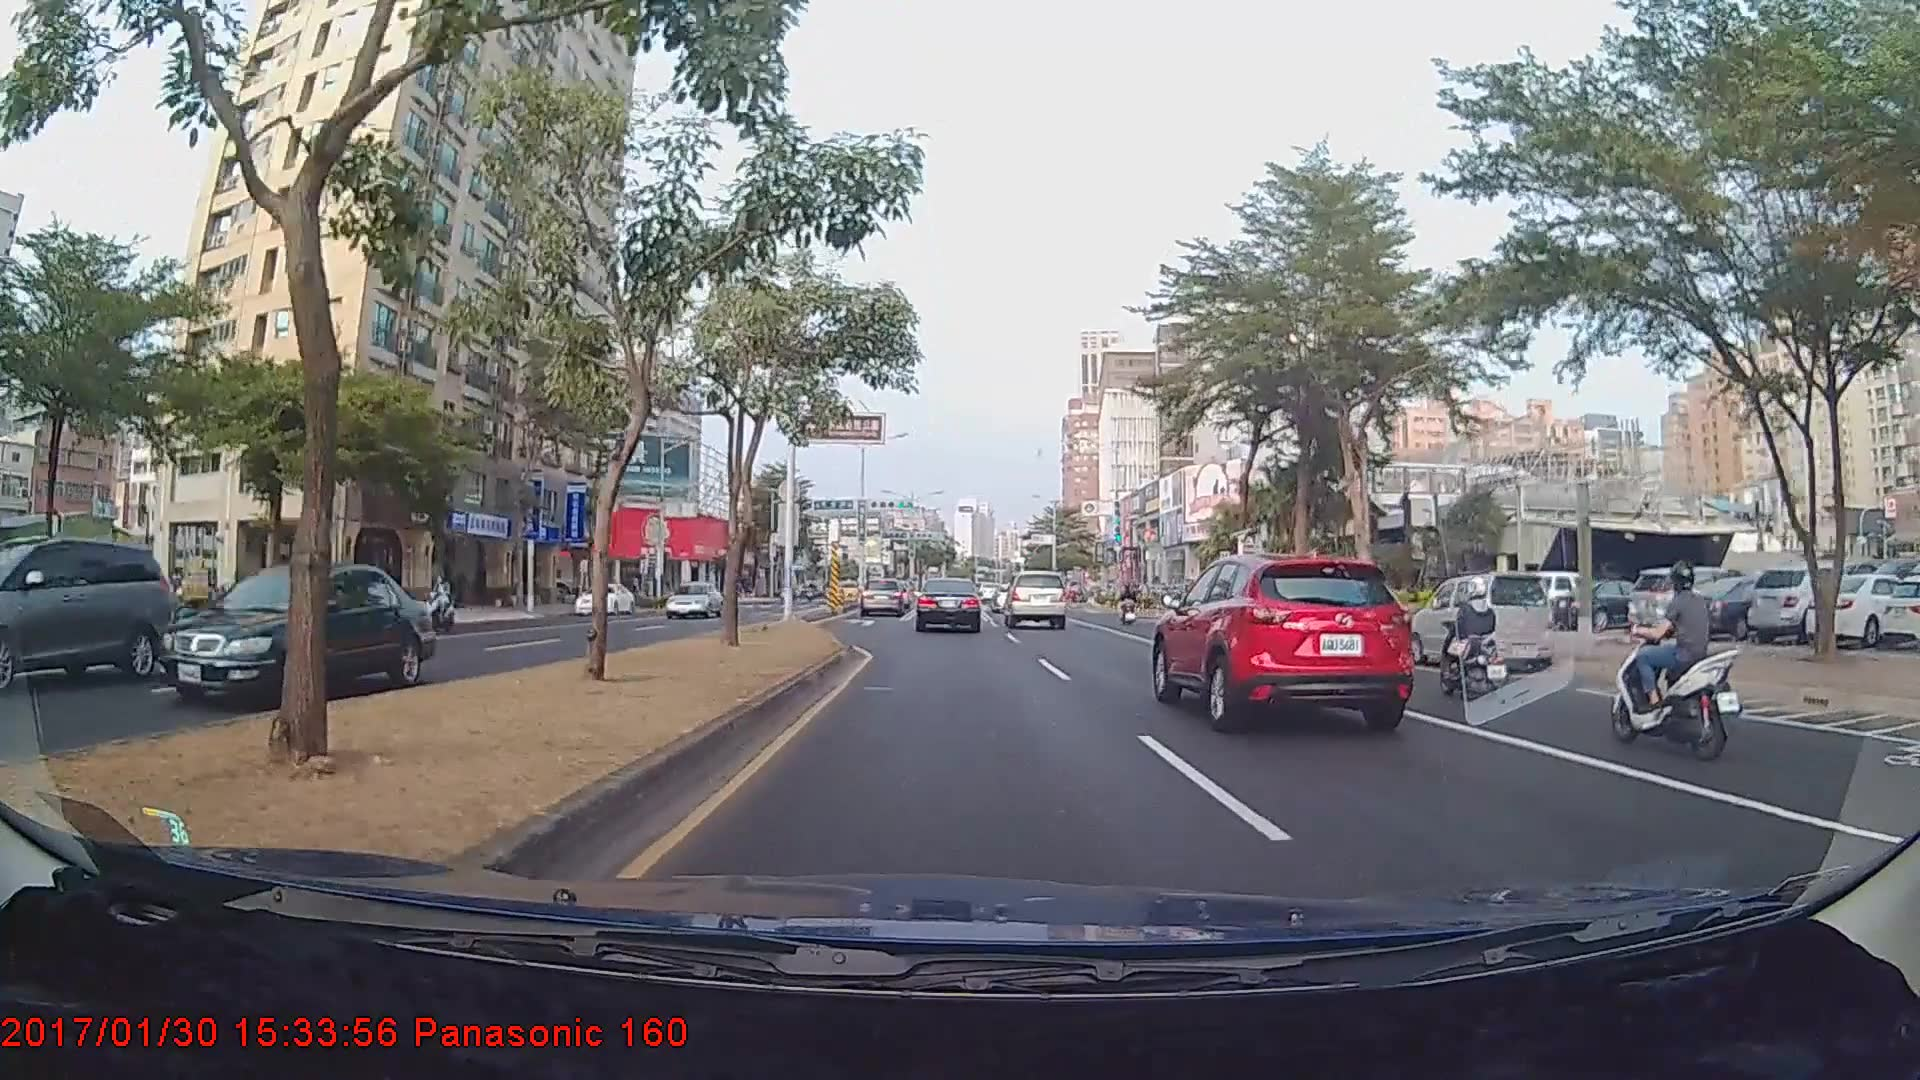rider: (1602, 555, 1748, 760), (1428, 572, 1524, 710), (1121, 587, 1145, 631)
vehicle: (1152, 547, 1413, 728), (150, 561, 437, 701), (0, 538, 173, 692), (1407, 571, 1556, 671), (1625, 566, 1752, 636), (1003, 568, 1067, 629), (914, 577, 982, 633), (664, 582, 724, 617), (573, 580, 632, 616), (858, 577, 906, 619)
